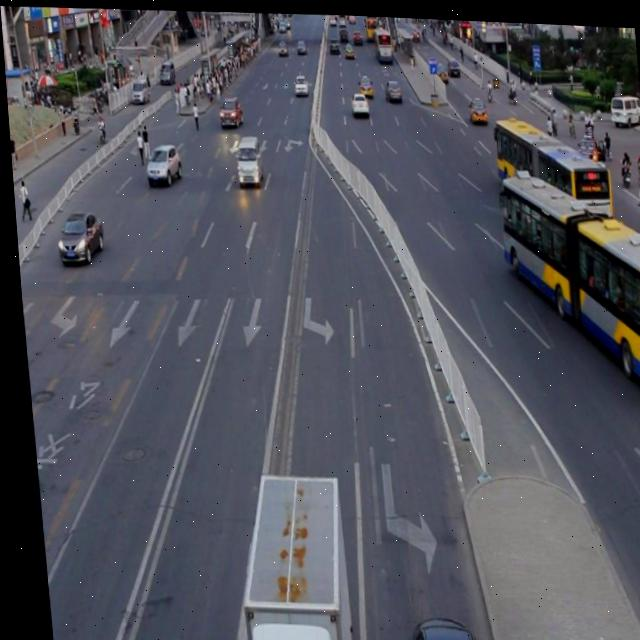bus: (225, 466, 344, 640)
car: (50, 207, 102, 265), (397, 610, 473, 640), (140, 141, 179, 184)
van: (494, 168, 640, 392), (491, 112, 610, 222)
